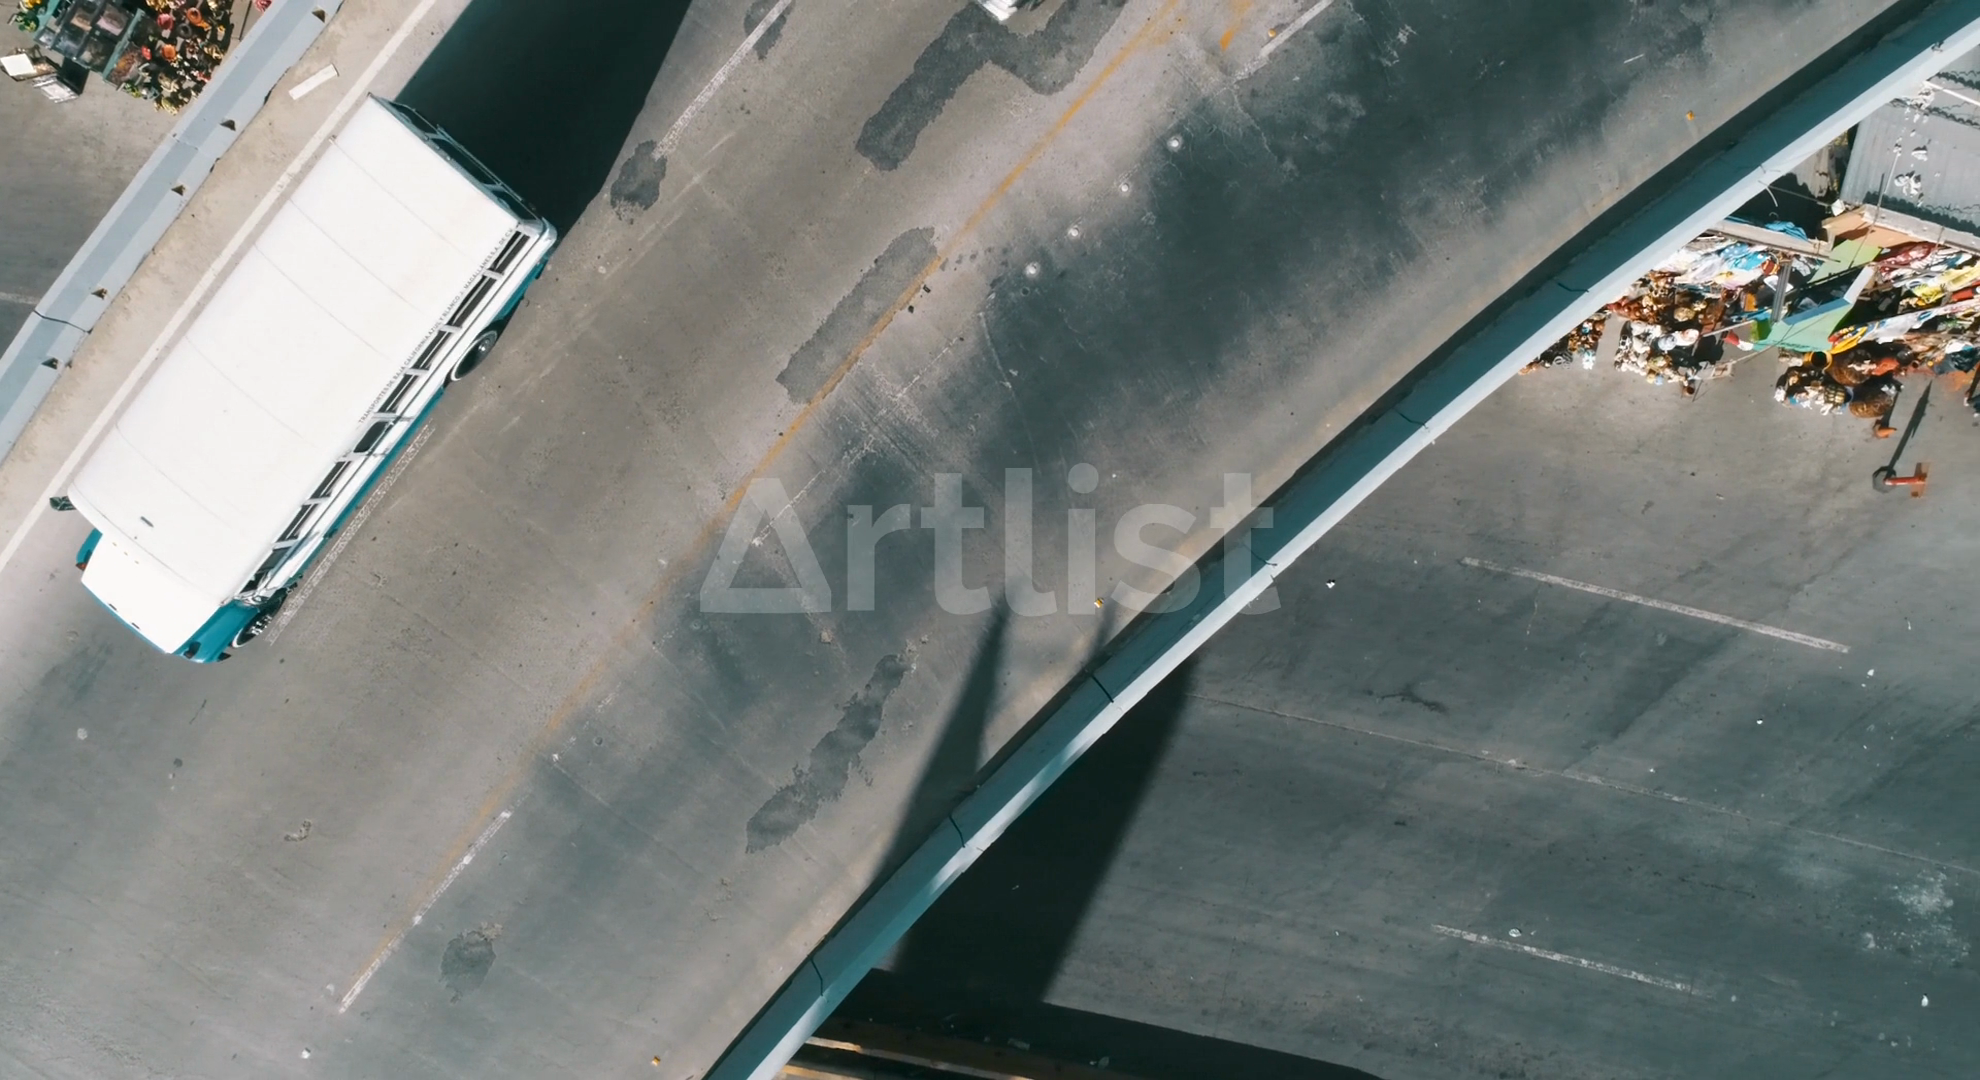car: (0, 61, 578, 630)
